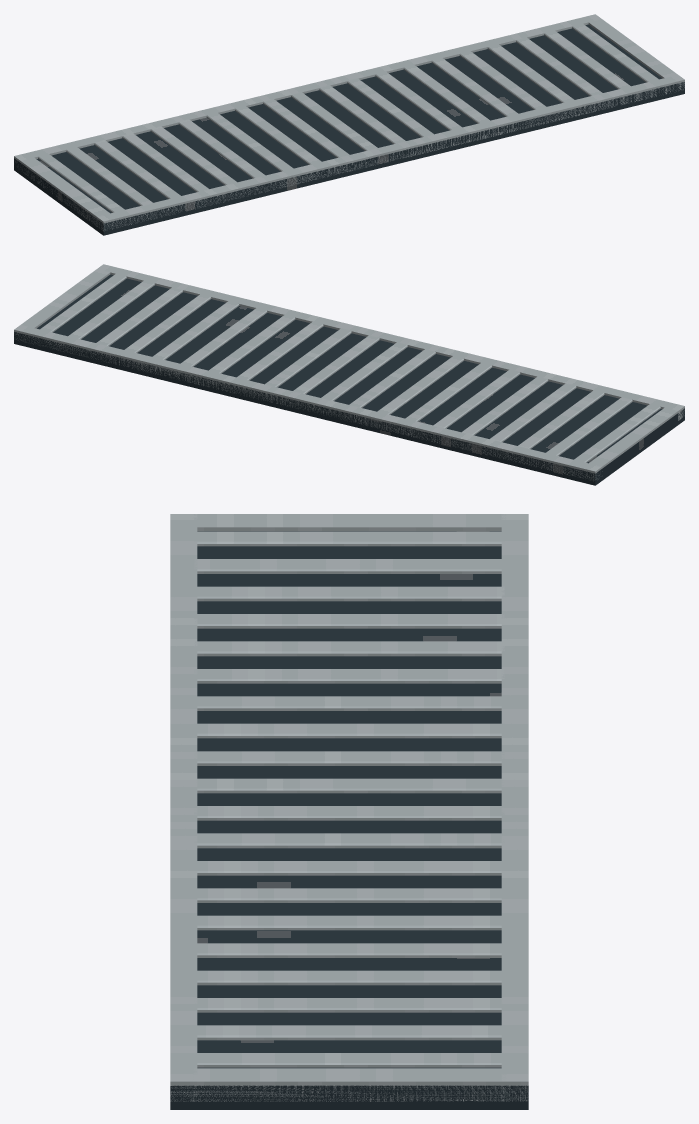
Rendered from pool_drain.glb.
The picture shows the model from 3 angles, top to bottom: view 1: azimuth 30°, elevation 25°; view 2: azimuth 150°, elevation 25°; view 3: azimuth 270°, elevation 25°; orthographic projection. The views are drawn at different scales.
Parts seen in each view (by area): view 1: pool_pool_drain; view 2: pool_pool_drain; view 3: pool_pool_drain.
Boxes of the visible parts, left/top/right/bottom form: pool_pool_drain: left=14, top=14, right=684, bottom=235; pool_pool_drain: left=14, top=264, right=684, bottom=485; pool_pool_drain: left=170, top=514, right=528, bottom=1109.
Bounding box in the file's own units: 0.6 × 0.014 × 0.16.
Materials: 2 (2 with a texture image).
